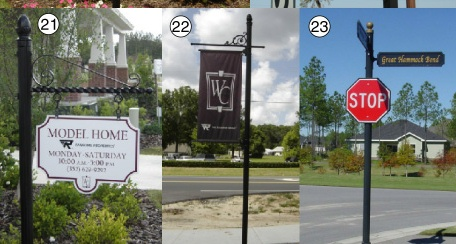stopsign: (345, 77, 393, 123)
